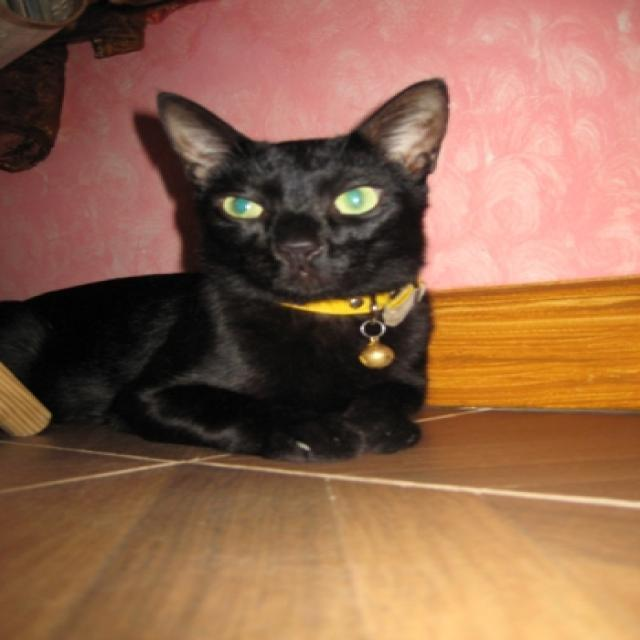Bombay: (156, 77, 446, 293)
